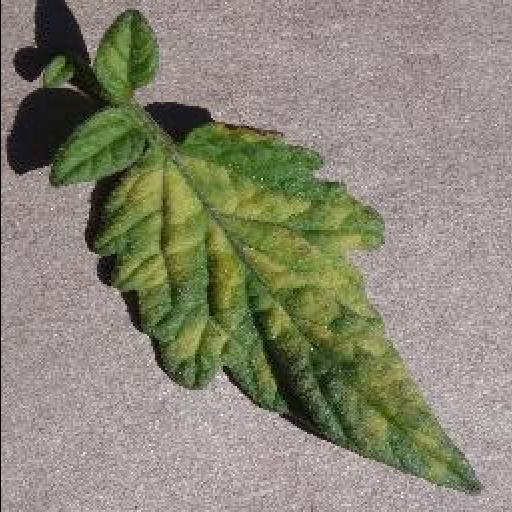disease_tomato: (92, 122, 482, 495)
